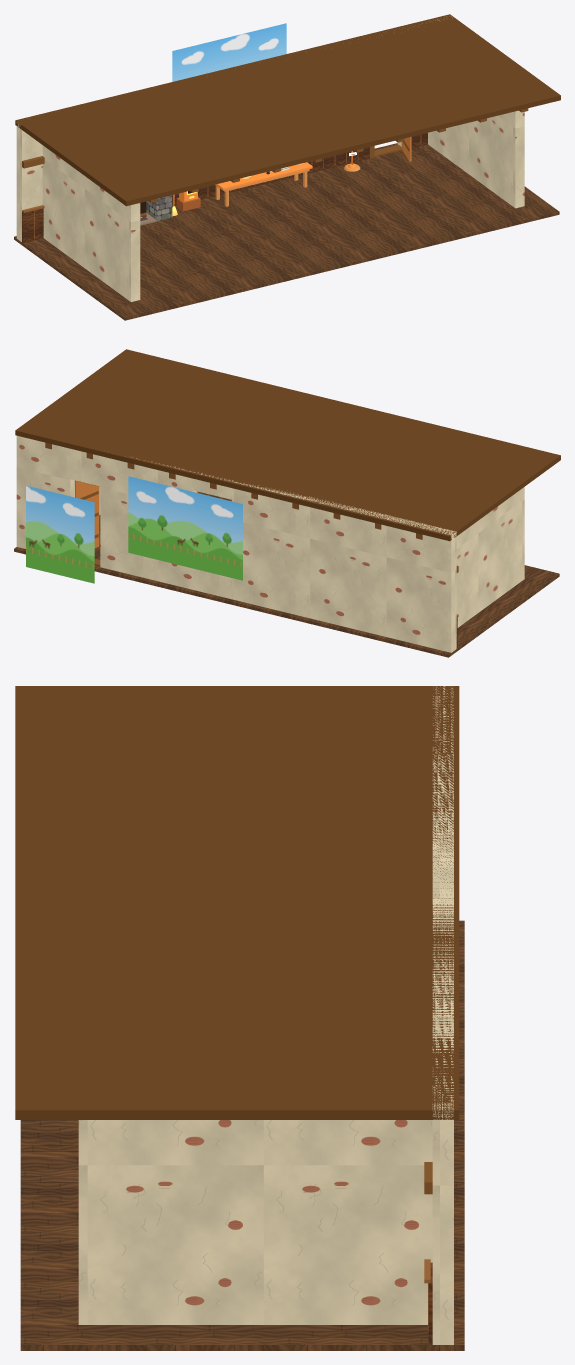
Rendered from gasthaus.glb.
The picture shows the model from 3 angles, top to bottom: view 1: azimuth 30°, elevation 25°; view 2: azimuth 150°, elevation 25°; view 3: azimuth 270°, elevation 25°; orthographic projection. The views are drawn at different scales.
Visible parts, largest first — view 1: G_Decke.001, G_Boden.001, G_Seitenwand-1.001, G_Seitenwand1.001, G_Aussicht.001, G_Wand.001, G_Taefelung0.001, G_Tischplatte.001, G_Kamin.001; view 2: G_Decke.001, G_Wand.001, G_Aussicht.001, G_Seitenwand-1.001, G_Gartenblick.001, G_Boden.001, G_TuerBlatt.001; view 3: G_Decke.001, G_Seitenwand1.001, G_Boden.001, G_Wand.001.
Part boxes in pixels (bbox=[...]): G_Decke.001: bbox=[15, 14, 560, 206]; G_Boden.001: bbox=[14, 143, 559, 320]; G_Seitenwand-1.001: bbox=[42, 145, 140, 301]; G_Seitenwand1.001: bbox=[428, 110, 524, 208]; G_Aussicht.001: bbox=[172, 23, 286, 81]; G_Wand.001: bbox=[16, 16, 452, 241]; G_Taefelung0.001: bbox=[22, 147, 369, 242]; G_Tischplatte.001: bbox=[215, 162, 312, 189]; G_Kamin.001: bbox=[146, 195, 172, 221]; G_Decke.001: bbox=[15, 349, 560, 541]; G_Wand.001: bbox=[16, 435, 456, 652]; G_Aussicht.001: bbox=[128, 476, 242, 580]; G_Seitenwand-1.001: bbox=[456, 487, 524, 627]; G_Gartenblick.001: bbox=[26, 485, 94, 583]; G_Boden.001: bbox=[14, 492, 559, 657]; G_TuerBlatt.001: bbox=[75, 480, 99, 548]; G_Decke.001: bbox=[15, 686, 459, 1119]; G_Seitenwand1.001: bbox=[78, 1120, 432, 1324]; G_Boden.001: bbox=[20, 920, 464, 1350]; G_Wand.001: bbox=[432, 686, 453, 1344].
Size of the model in its own units: 19 by 5.29 by 10.3.
47 materials, 7 textured.
